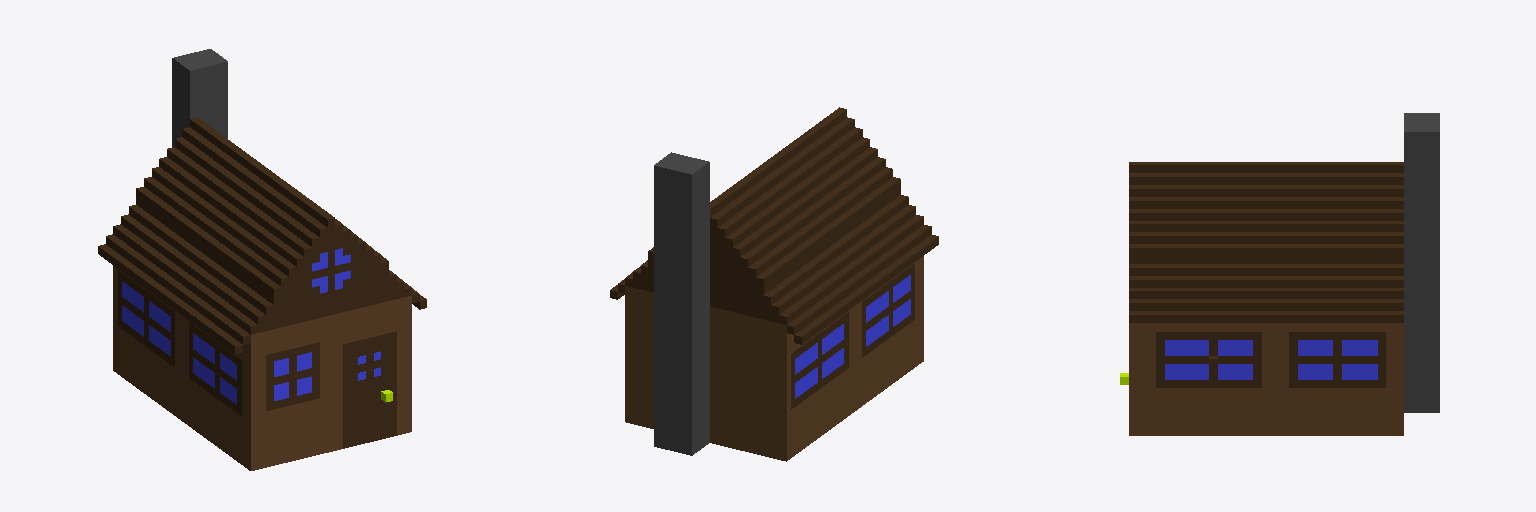
The picture shows the model from 3 angles: view 1: azimuth 30°, elevation 25°; view 2: azimuth 150°, elevation 25°; view 3: azimuth 270°, elevation 25°; orthographic projection.
Visible parts, largest first — view 1: object 1; view 2: object 1; view 3: object 1.
Part boxes in pixels (x1,y1,x2,y2): object 1: (98, 49, 426, 470); object 1: (610, 107, 938, 461); object 1: (1120, 113, 1439, 435).
Bounding box in the file's own units: 2.5 × 3.5 × 3.6.
Materials: 1 (1 with a texture image).